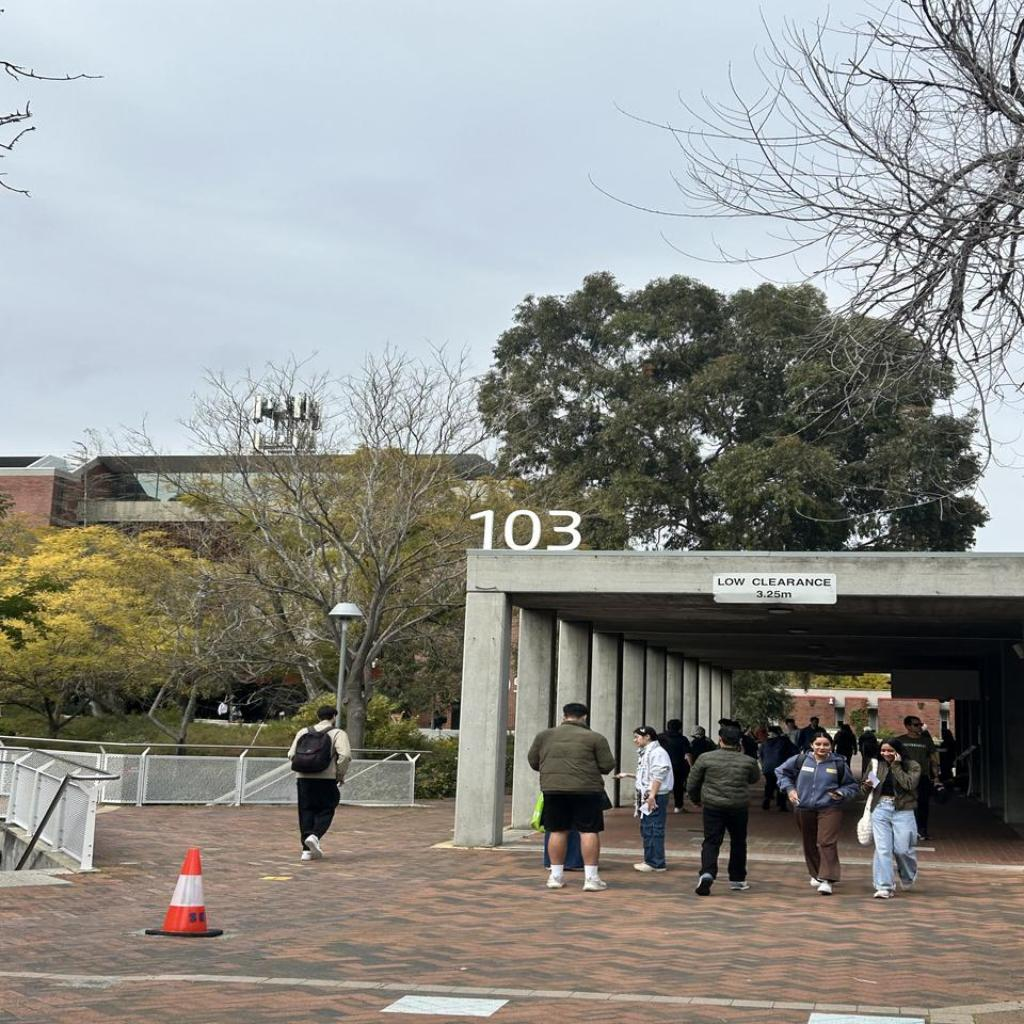BuildingCodes: (469, 508, 583, 552)
